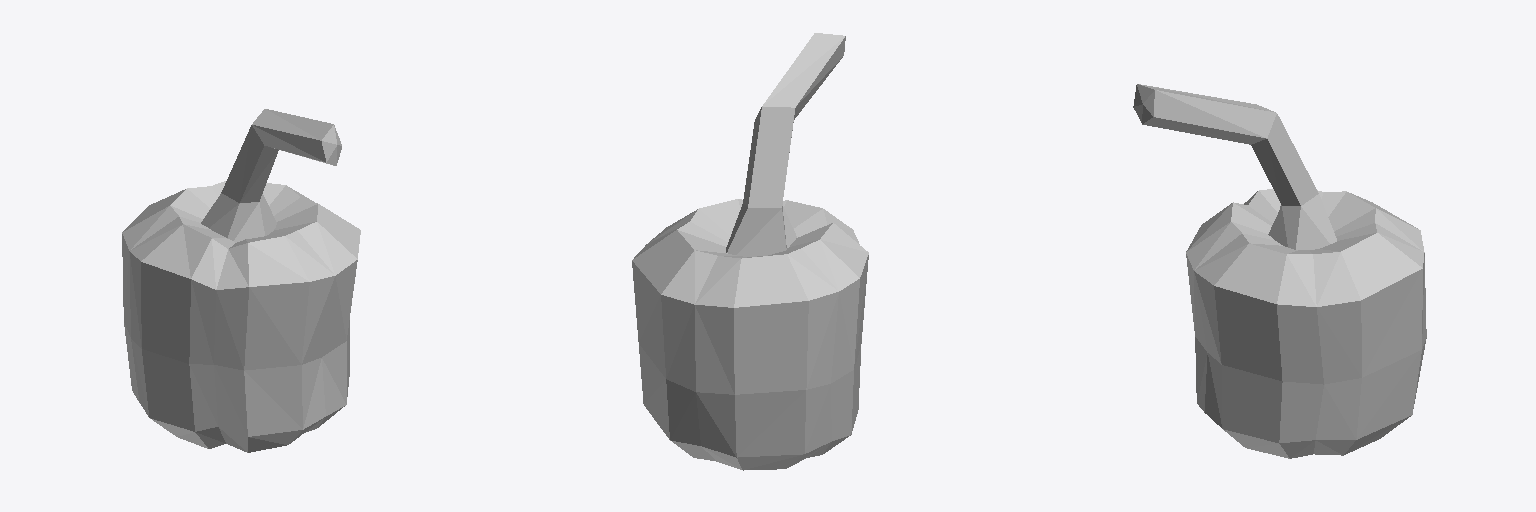
Rendered from SM_Prop_Pepper_01_M.obj.
3 views of the same model, side by side, from view 1: azimuth 30°, elevation 25°; view 2: azimuth 150°, elevation 25°; view 3: azimuth 270°, elevation 25° (orthographic).
Bounding box in the file's own units: 10.36 × 16.61 × 12.71.